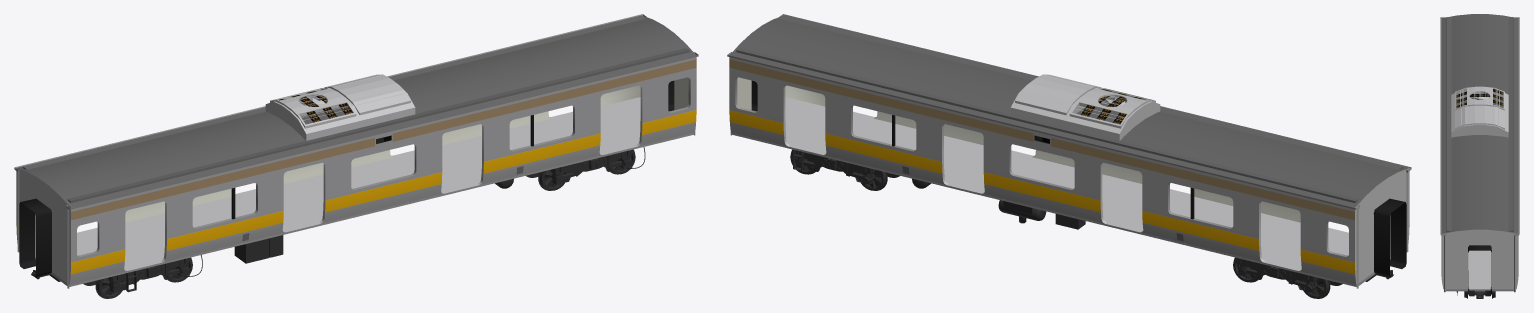
3 views of the same model, side by side, from view 1: azimuth 30°, elevation 25°; view 2: azimuth 150°, elevation 25°; view 3: azimuth 270°, elevation 25° (orthographic). The views are drawn at different scales.
Visible parts, largest first — view 1: ceil_Cube.002, side_Cube.034, floor_Cube.012, line_Cube.024, ac_Plane.004, inner_Cube.036, amadoi_Cube, holo_Cube.001, end_Cube.035, ac__Cube.011, daisya_Cube.021, daisya.001_Cube.026 (+5 smaller); view 2: ceil_Cube.002, side_Cube.034, floor_Cube.012, line_Cube.024, ac_Plane.004, inner_Cube.036, amadoi_Cube, holo_Cube.001, end_Cube.035, ac__Cube.011, daisya.001_Cube.026, daisya_Cube.021 (+5 smaller); view 3: ceil_Cube.002, end_Cube.035, ac_Plane.004, amadoi_Cube, floor_Cube.012, ac__Cube.011, Plane_Plane.008, holo_Cube.001, mesh_Plane.001, joint_Cube.022.
Part boxes in pixels (bbox=[...]): ceil_Cube.002: bbox=[17, 15, 696, 207]; side_Cube.034: bbox=[69, 57, 696, 284]; floor_Cube.012: bbox=[50, 97, 694, 286]; line_Cube.024: bbox=[16, 59, 696, 274]; ac_Plane.004: bbox=[265, 74, 415, 140]; inner_Cube.036: bbox=[125, 77, 688, 222]; amadoi_Cube: bbox=[14, 14, 698, 288]; holo_Cube.001: bbox=[19, 80, 674, 277]; end_Cube.035: bbox=[16, 168, 70, 284]; ac__Cube.011: bbox=[270, 87, 356, 128]; daisya_Cube.021: bbox=[550, 150, 631, 184]; daisya.001_Cube.026: bbox=[108, 258, 189, 292]; ceil_Cube.002: bbox=[729, 15, 1408, 207]; side_Cube.034: bbox=[729, 57, 1356, 284]; floor_Cube.012: bbox=[731, 97, 1375, 286]; line_Cube.024: bbox=[729, 59, 1409, 274]; ac_Plane.004: bbox=[1010, 74, 1160, 140]; inner_Cube.036: bbox=[737, 77, 1300, 222]; amadoi_Cube: bbox=[727, 14, 1411, 288]; holo_Cube.001: bbox=[751, 80, 1406, 277]; end_Cube.035: bbox=[1355, 168, 1409, 284]; ac__Cube.011: bbox=[1069, 87, 1155, 128]; daisya.001_Cube.026: bbox=[1236, 258, 1317, 292]; daisya_Cube.021: bbox=[795, 150, 875, 184]; ceil_Cube.002: bbox=[1441, 14, 1518, 233]; end_Cube.035: bbox=[1441, 229, 1518, 289]; ac_Plane.004: bbox=[1451, 93, 1508, 137]; amadoi_Cube: bbox=[1440, 17, 1519, 292]; floor_Cube.012: bbox=[1446, 250, 1513, 291]; ac__Cube.011: bbox=[1455, 86, 1504, 110]; Plane_Plane.008: bbox=[1460, 87, 1499, 124]; holo_Cube.001: bbox=[1468, 245, 1491, 296]; mesh_Plane.001: bbox=[1456, 89, 1503, 108]; joint_Cube.022: bbox=[1474, 291, 1485, 298].
Bounding box in the file's own units: 20.5 × 4.18 × 3.03.
Materials: 1 (1 with a texture image).
